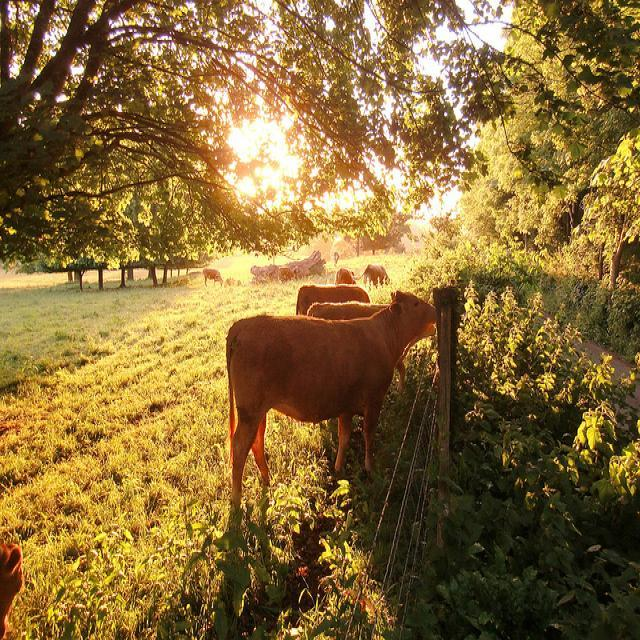cow: (218, 283, 441, 515), (293, 283, 369, 313), (305, 299, 389, 321), (351, 262, 390, 290), (334, 265, 355, 283), (202, 267, 222, 284)
